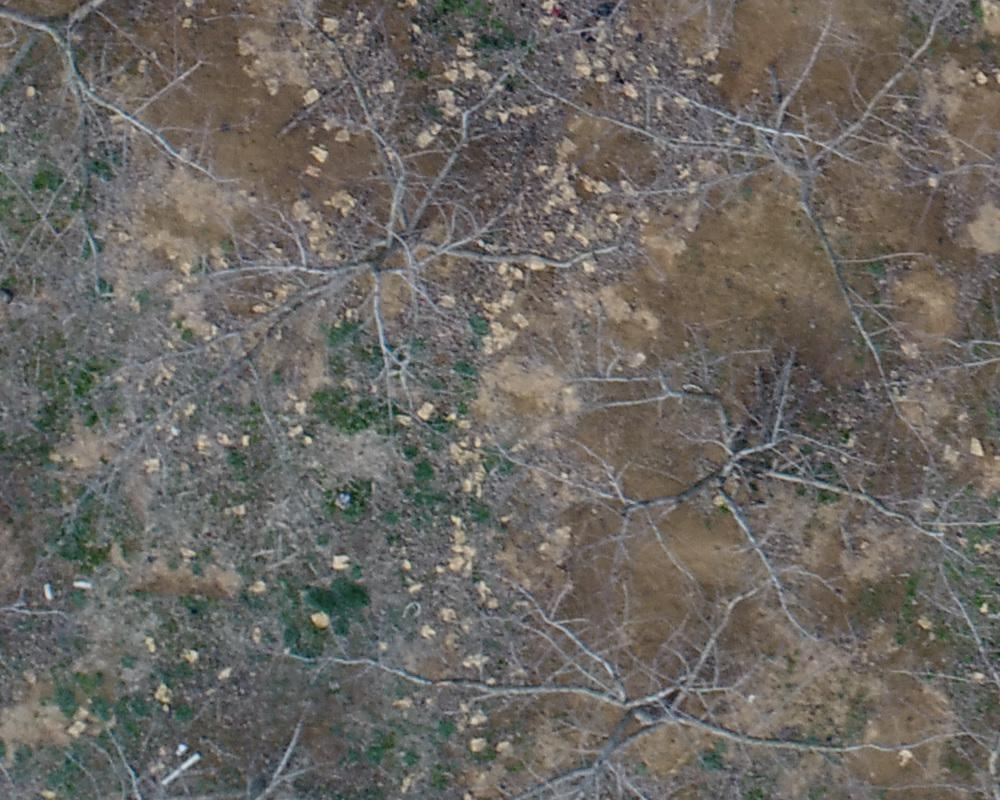apple: (146, 11, 640, 430), (515, 10, 960, 431), (492, 316, 990, 642), (247, 586, 927, 790)
